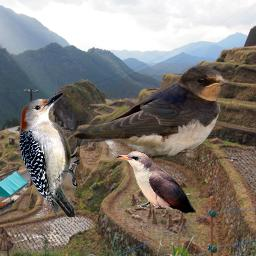Cuckoo: (116, 151, 196, 213)
Swallow: (72, 63, 230, 164)
Woodpecker: (19, 92, 80, 217)
